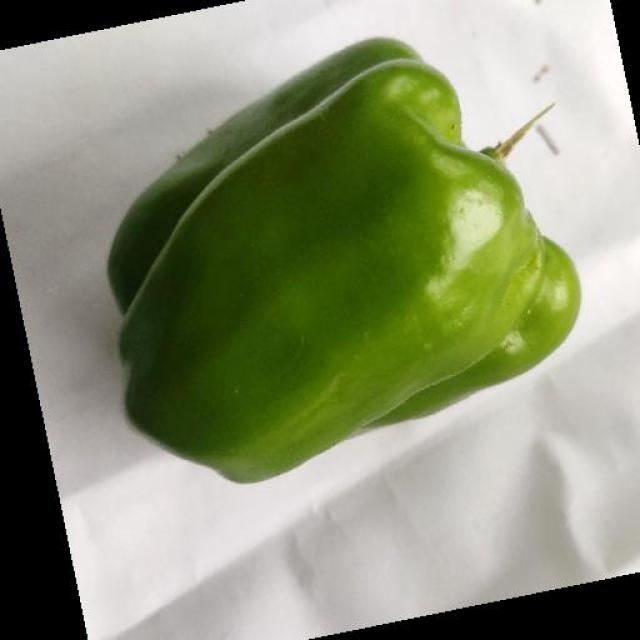Fresh_Capsicum: (166, 109, 592, 466)
